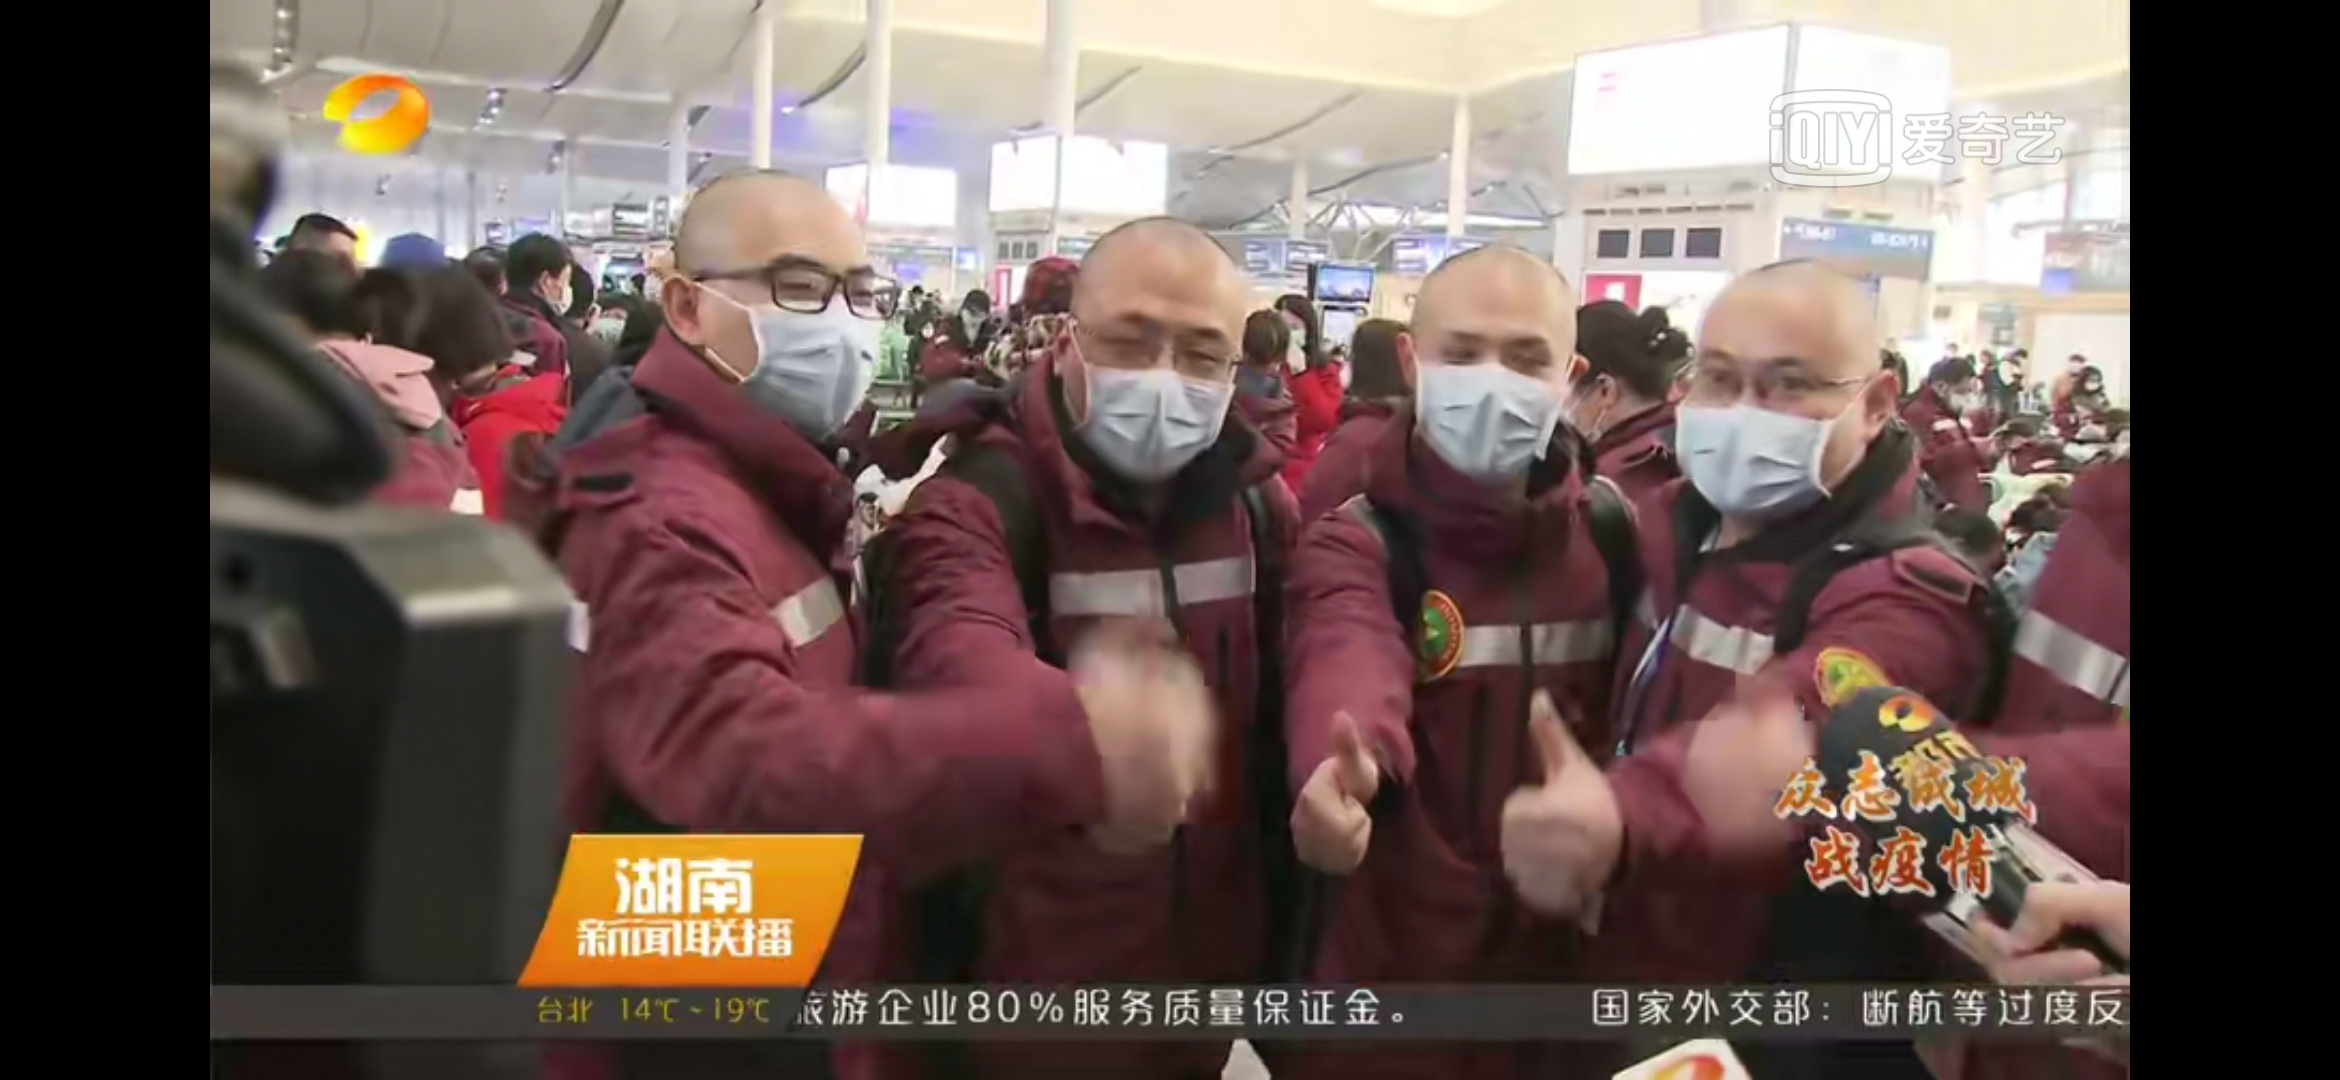correctlyWear: (672, 243, 897, 442), (1051, 297, 1240, 491), (1674, 337, 1871, 519), (1407, 318, 1571, 486), (540, 257, 578, 318), (1948, 377, 1974, 413)
